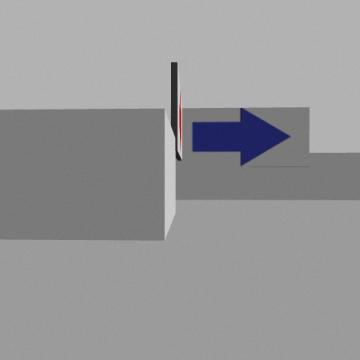blue_right: (192, 108, 290, 166)
